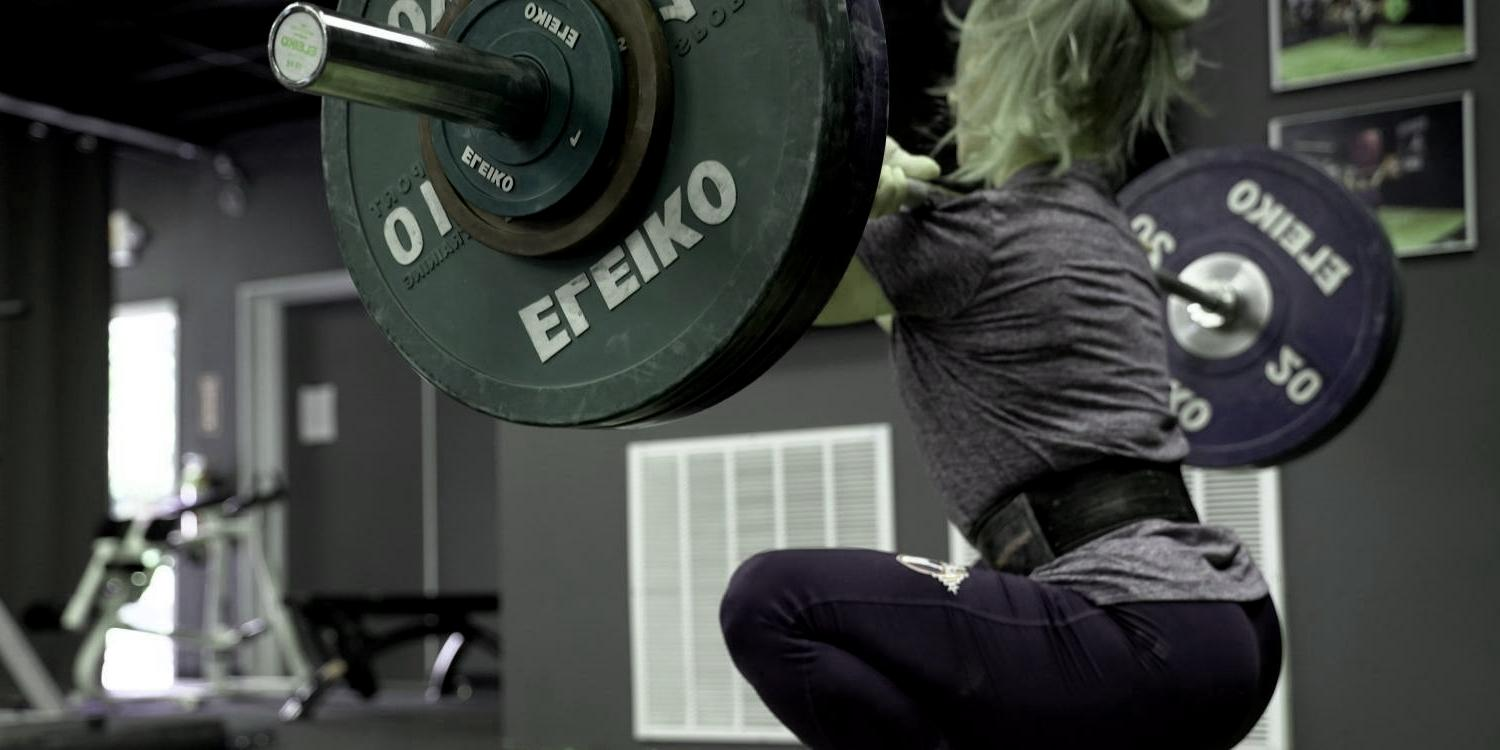Barbell: (263, 0, 330, 94)
